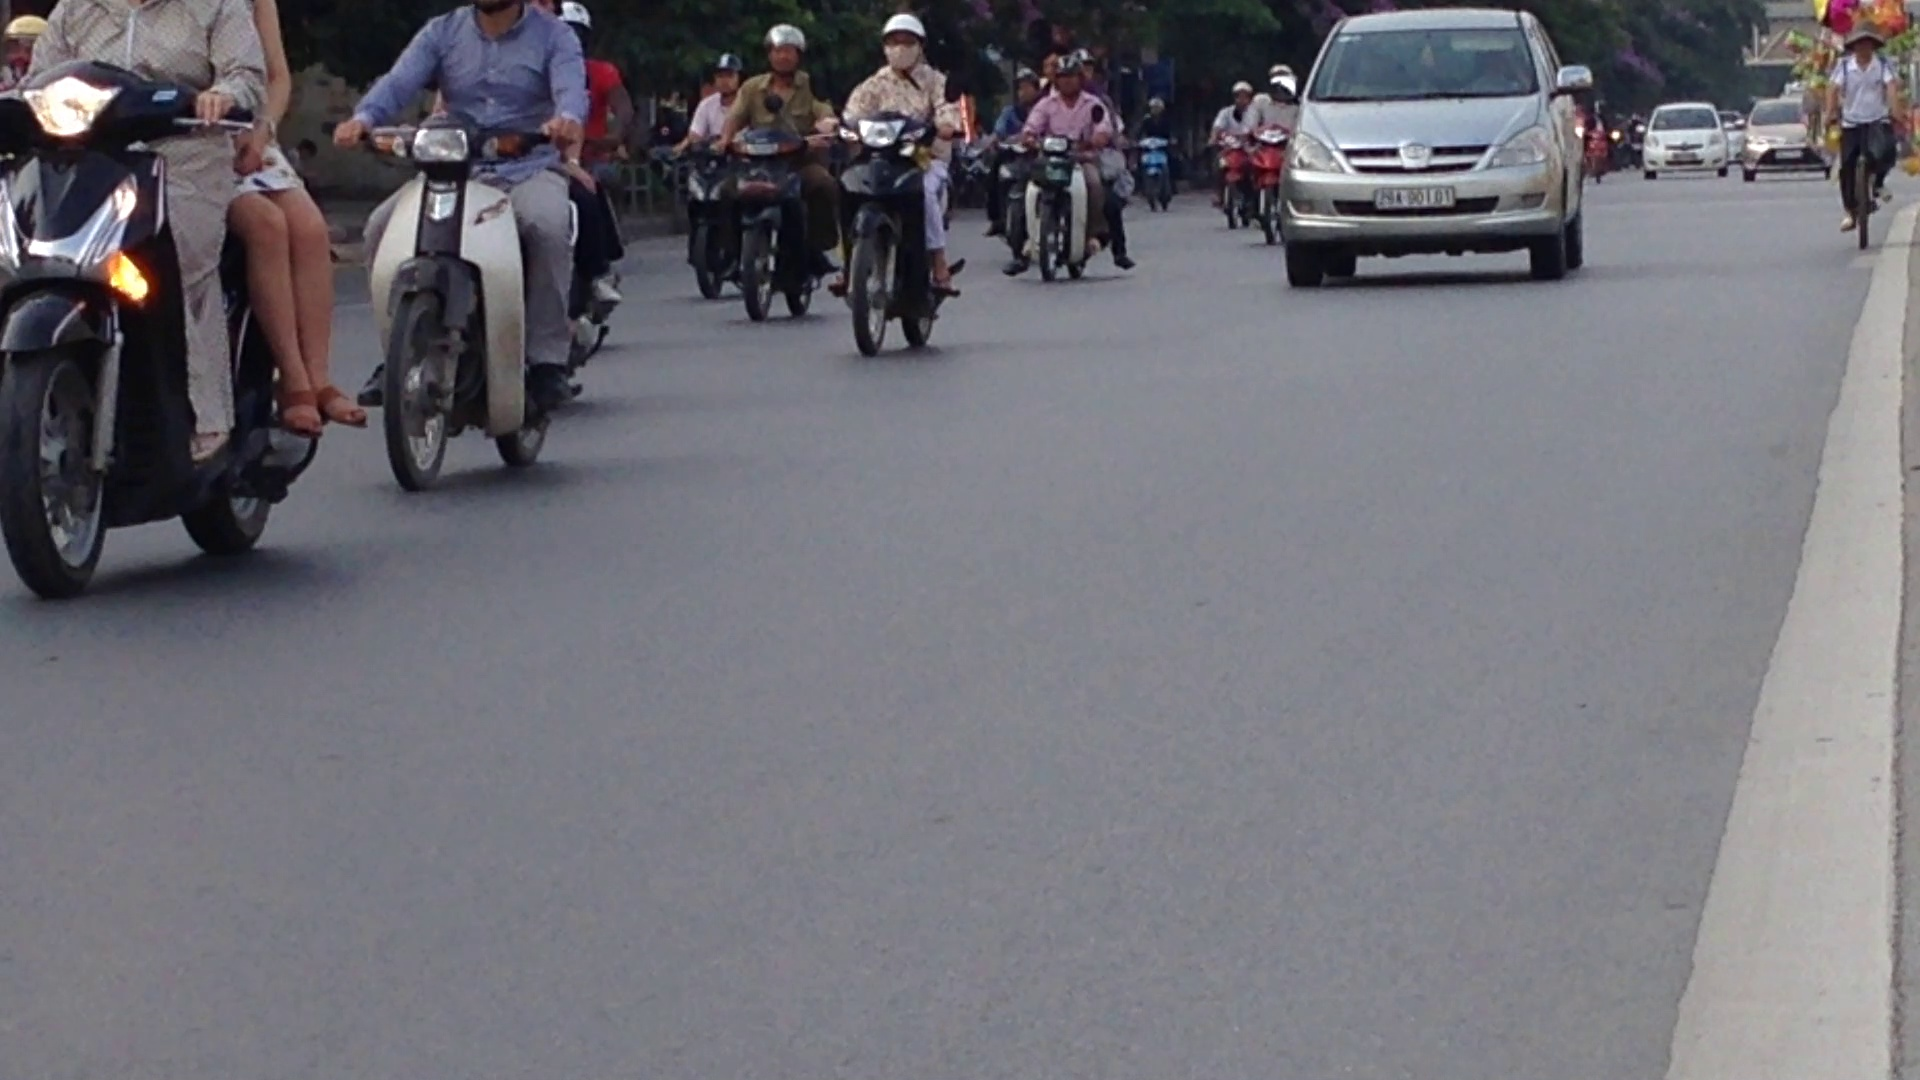person: (1372, 180, 1459, 211)
